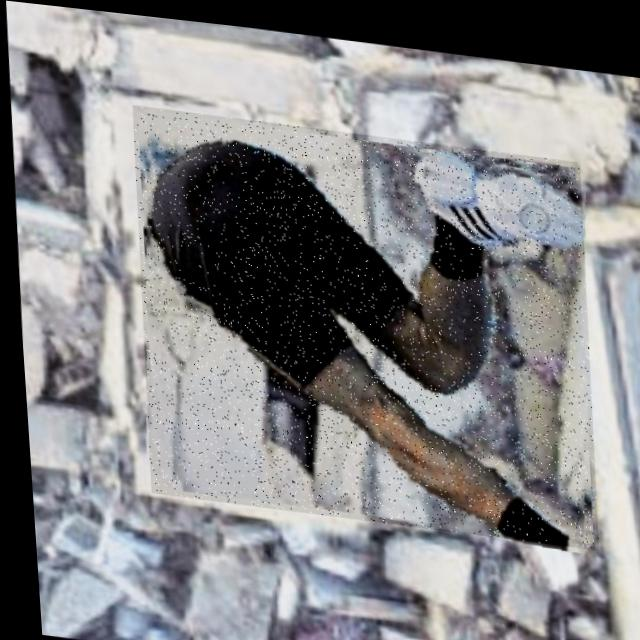Person in Rubble: (124, 100, 598, 537)
